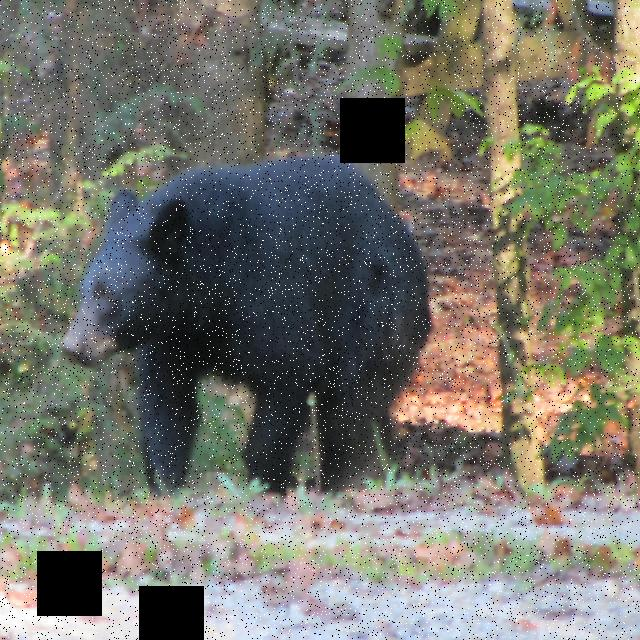Bear: (62, 141, 439, 519)
